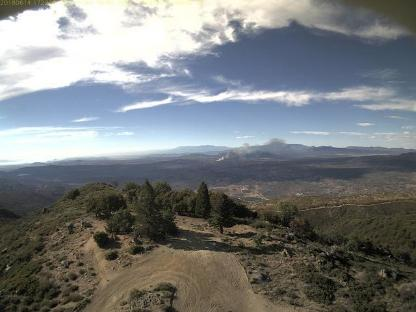smoke: (212, 134, 288, 164)
